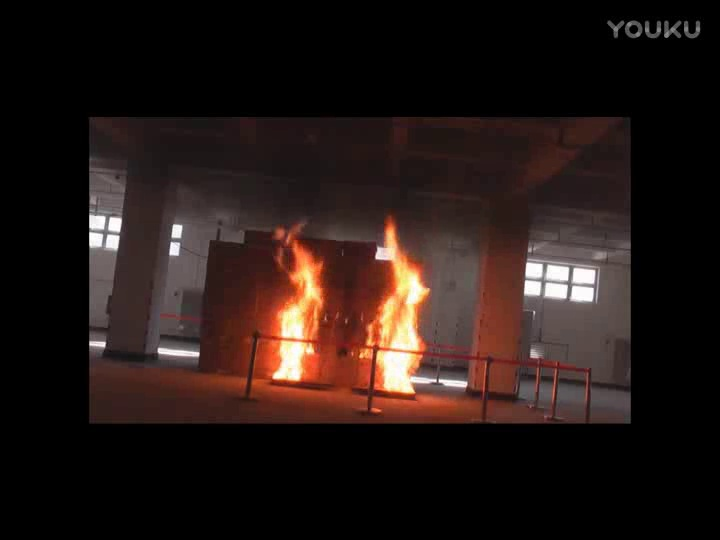fire: (373, 214, 429, 393), (272, 232, 317, 388)
